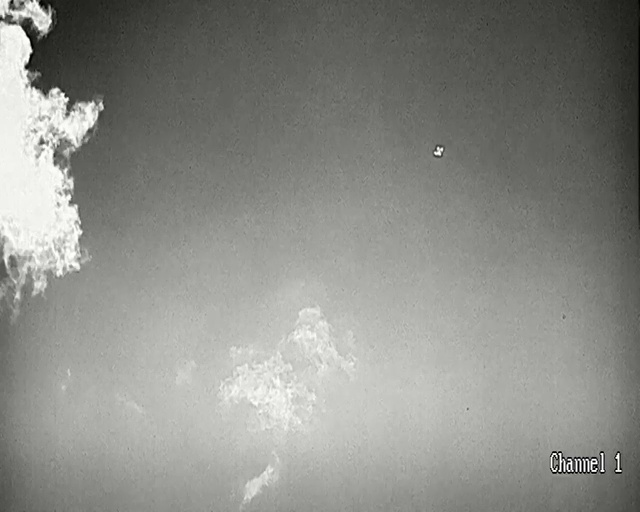uav: (432, 144, 444, 156)
